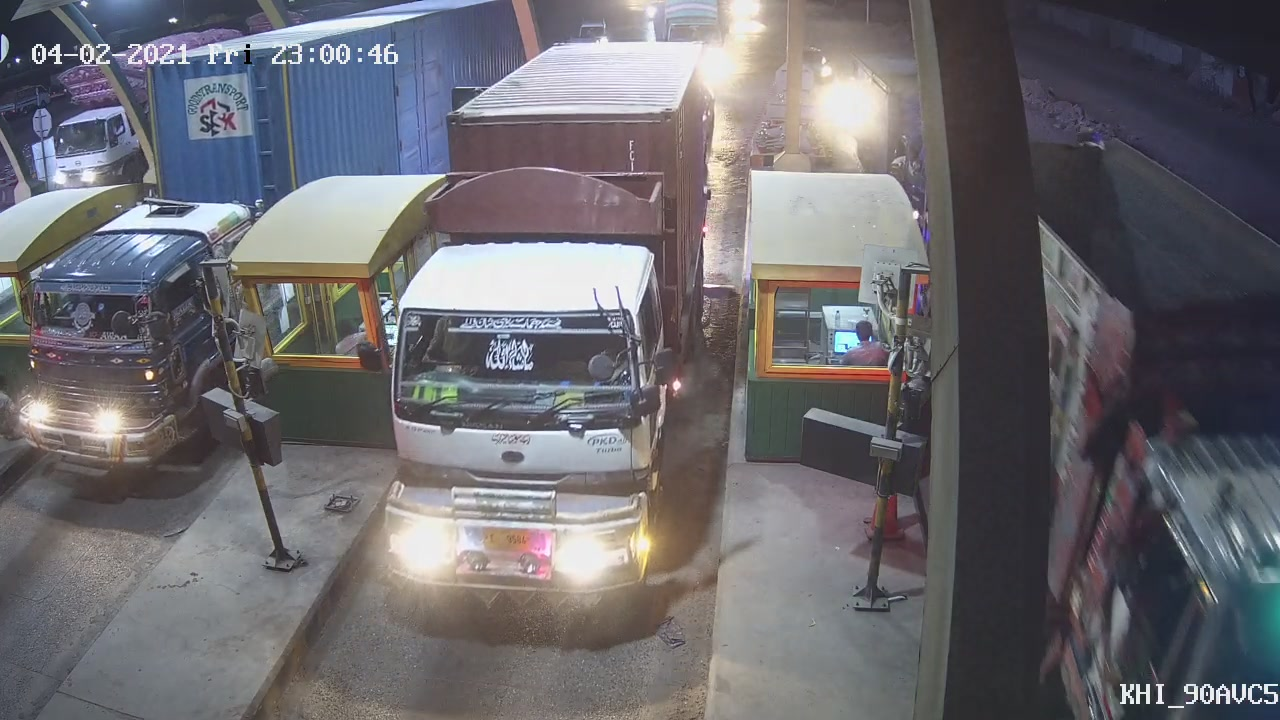F6: (375, 62, 715, 606)
